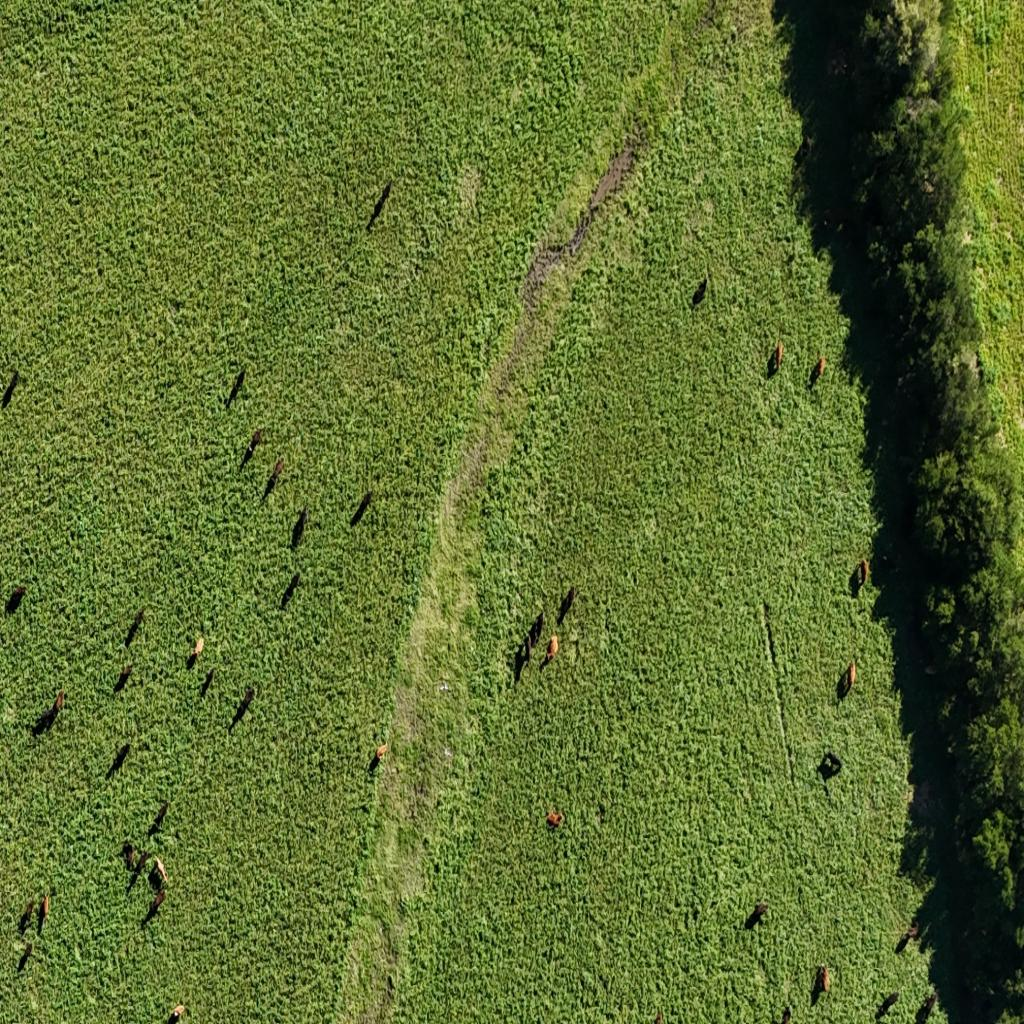cow: (34, 689, 66, 734), (368, 179, 392, 229), (230, 688, 255, 729), (688, 272, 709, 316), (242, 428, 264, 467), (264, 458, 284, 500), (108, 741, 131, 777), (1, 370, 20, 410), (916, 989, 938, 1023), (227, 367, 246, 406), (291, 506, 308, 549), (281, 571, 300, 609), (125, 609, 144, 647), (351, 490, 371, 526), (129, 852, 149, 888), (897, 920, 920, 950), (558, 585, 576, 623), (145, 888, 166, 919), (839, 660, 855, 700), (150, 801, 169, 834), (148, 860, 167, 893), (819, 752, 843, 778), (6, 585, 26, 616), (877, 990, 899, 1018), (852, 558, 869, 594), (746, 902, 768, 929), (114, 663, 134, 692), (20, 898, 36, 934), (529, 610, 544, 646), (812, 353, 827, 384), (815, 964, 830, 995), (121, 841, 137, 869), (18, 943, 33, 972), (201, 668, 215, 698), (545, 634, 559, 664), (189, 636, 204, 663), (38, 896, 49, 932), (167, 1003, 185, 1022), (546, 808, 563, 828), (522, 633, 532, 665), (775, 340, 784, 371), (781, 1006, 791, 1024)
